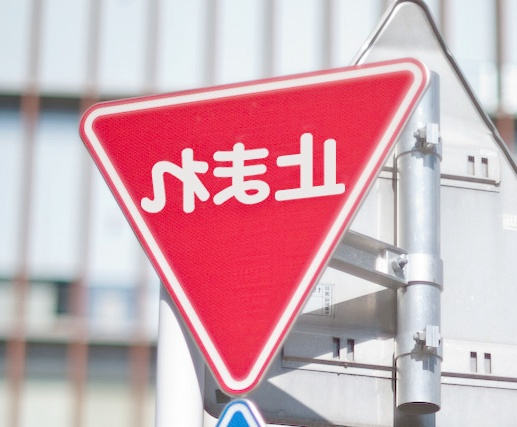Regulatory_sign_triangle: (60, 46, 433, 398)
